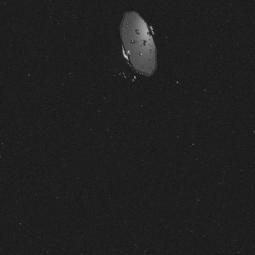lisa_pathfinder: (99, 5, 179, 102)
